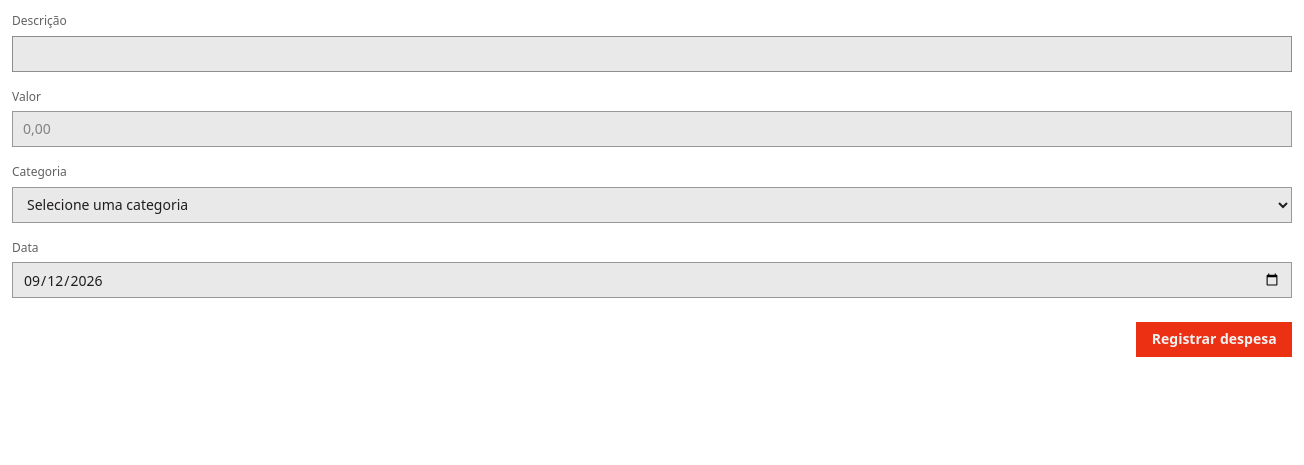
Test: TransactionForm › limpar a data pré-preenchida e submeter exibe "Informe a data."
Expected: the field labelled "Descrição" is shown, [12, 36, 1292, 72]
Clear the date field labelled "Data" at [652, 280], box [12, 262, 1292, 298]
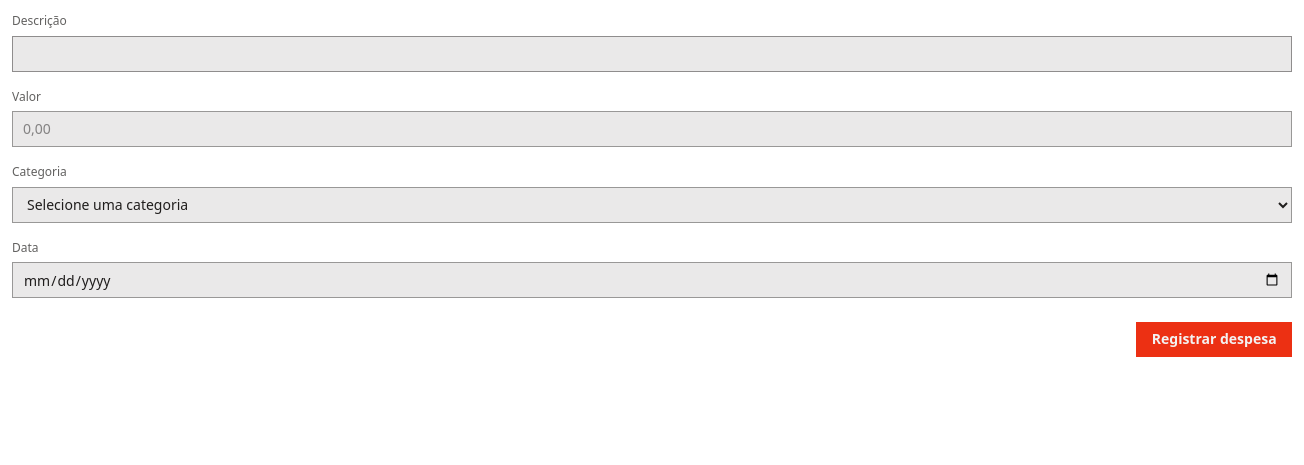
Click the button "Registrar despesa" at [1214, 340], box [1136, 322, 1292, 357]
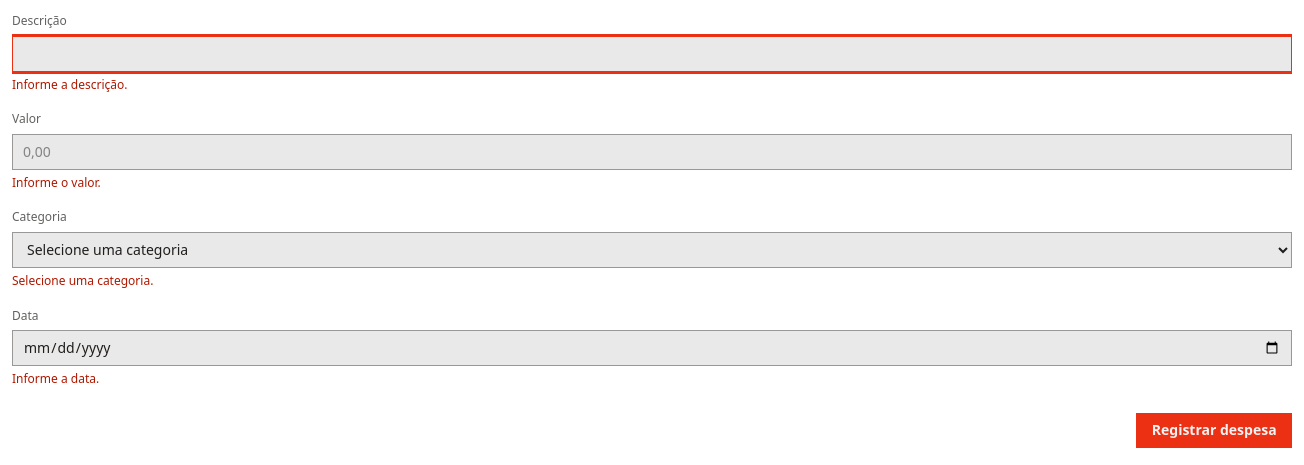
Result: the text "Informe a data." is shown at [12, 370, 99, 387]
